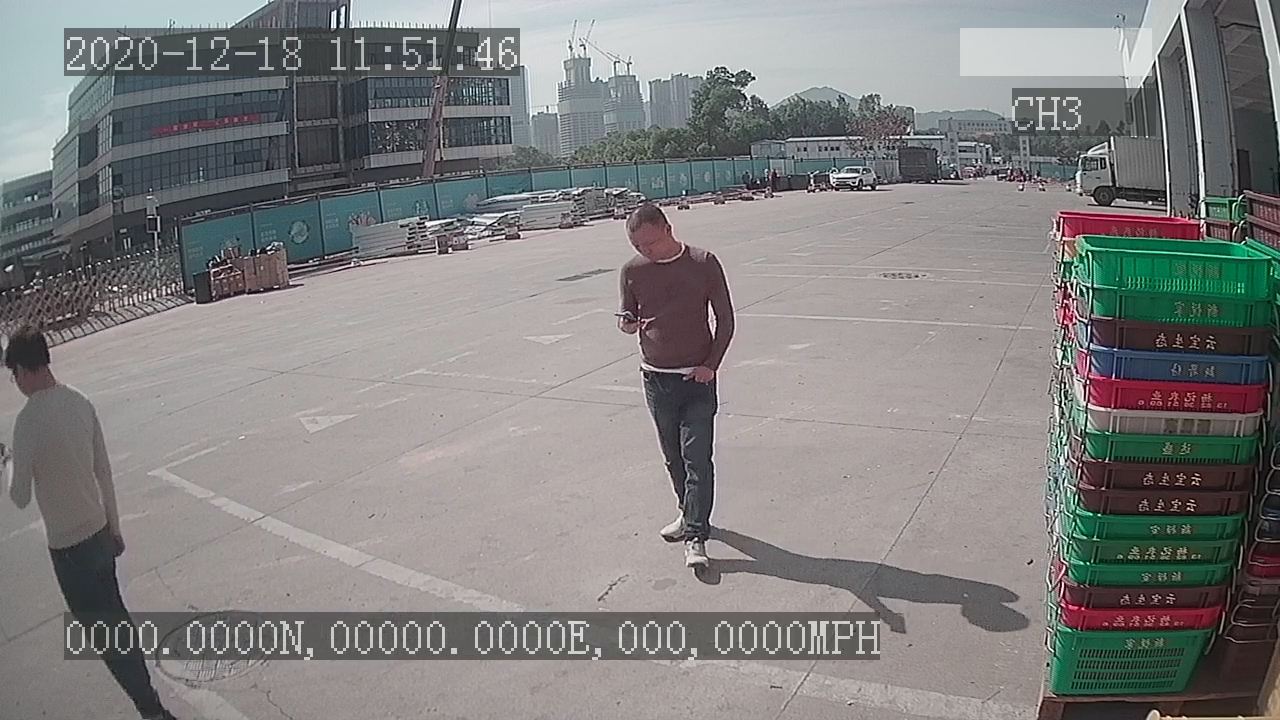person: (601, 199, 745, 579)
